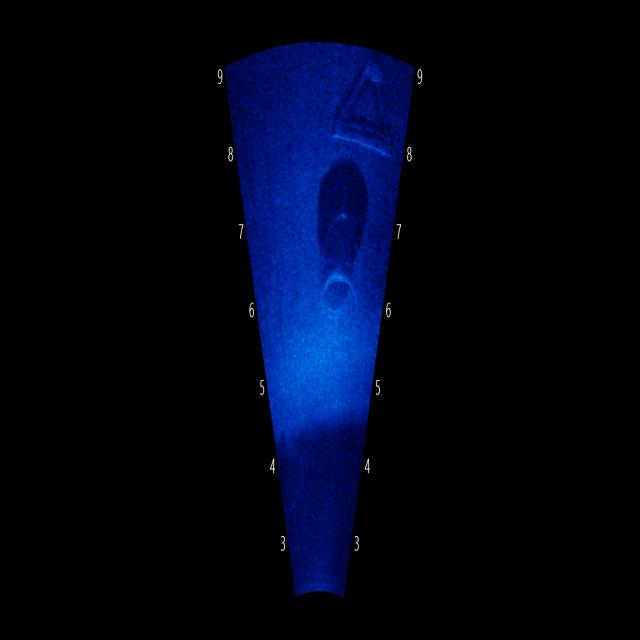circle: (306, 235, 366, 358)
triangle: (310, 48, 403, 159)
